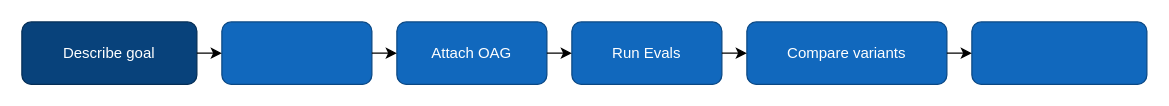
Image size: 1169x106. Some labels were removed from this diagram. Here are the shapes that lost their labels. From the top down, the centre of each, then its label:
(296,52): Bind tools
(1059,52): Deploy+heal
